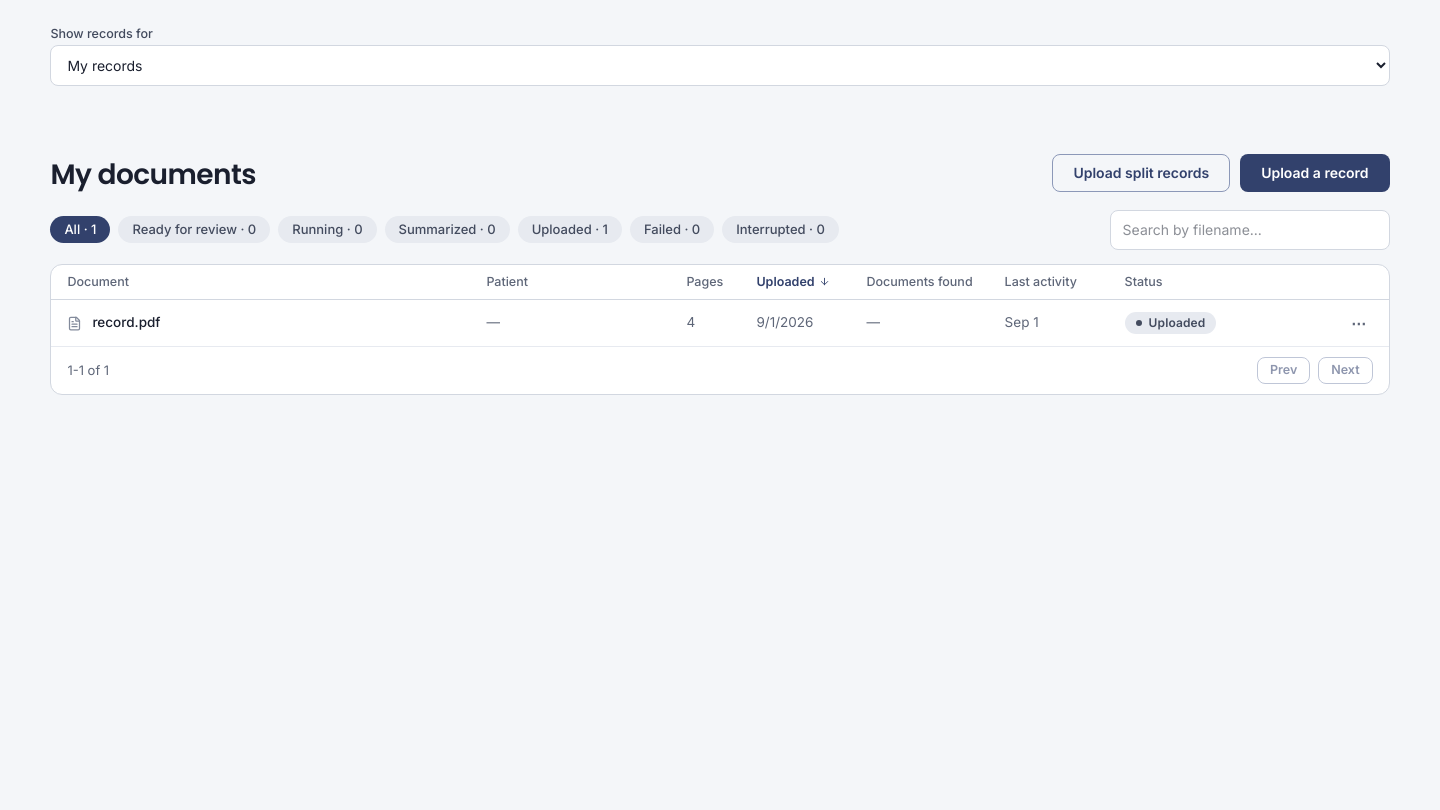
Test: DocumentsView for an admin › names the reviewer on the split upload too
Select "Brian" in the dropdown labelled "Show records for" at (720, 65), box [50,44,1390,86]
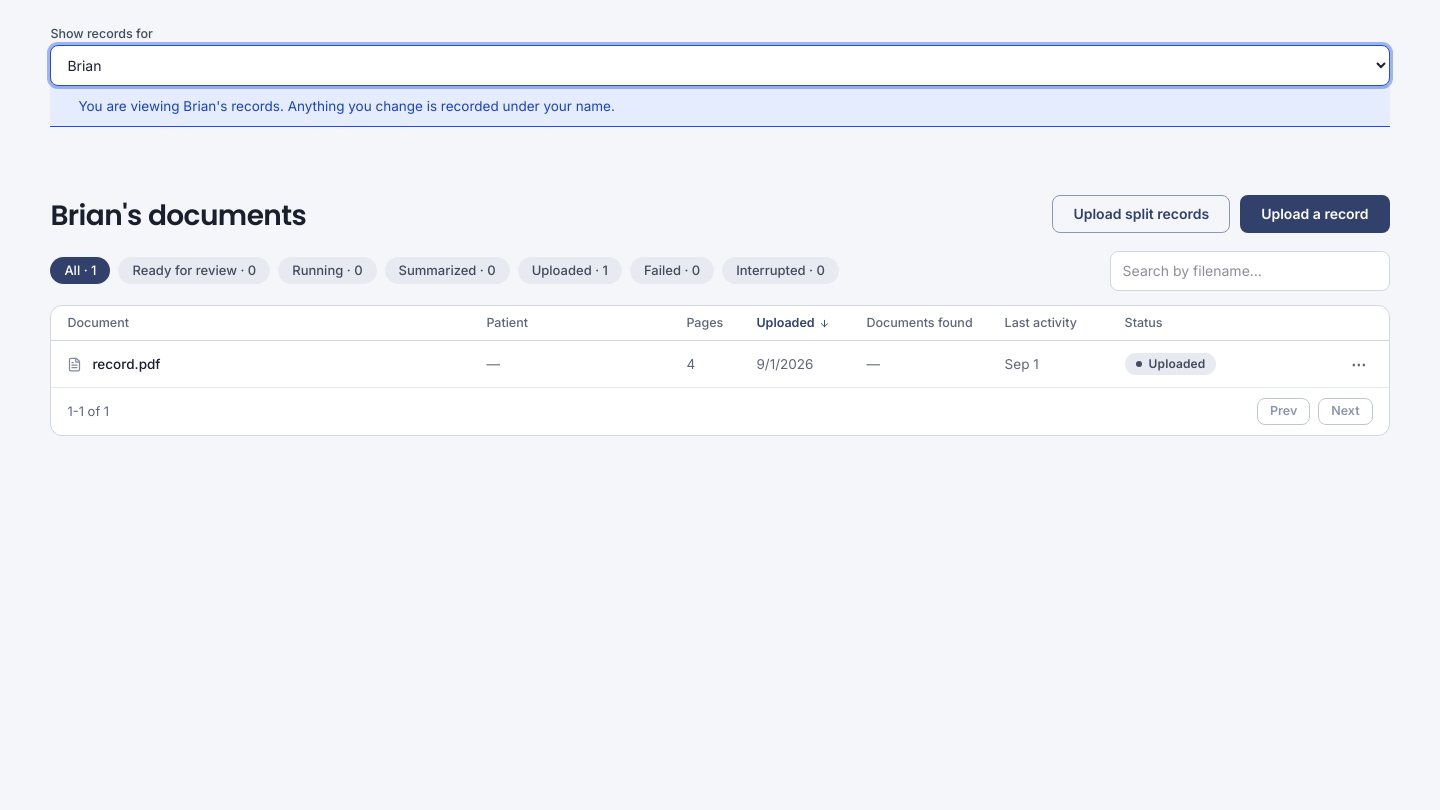
Click the button "Upload split records".
click(1141, 214)  # box [1052,195,1230,233]
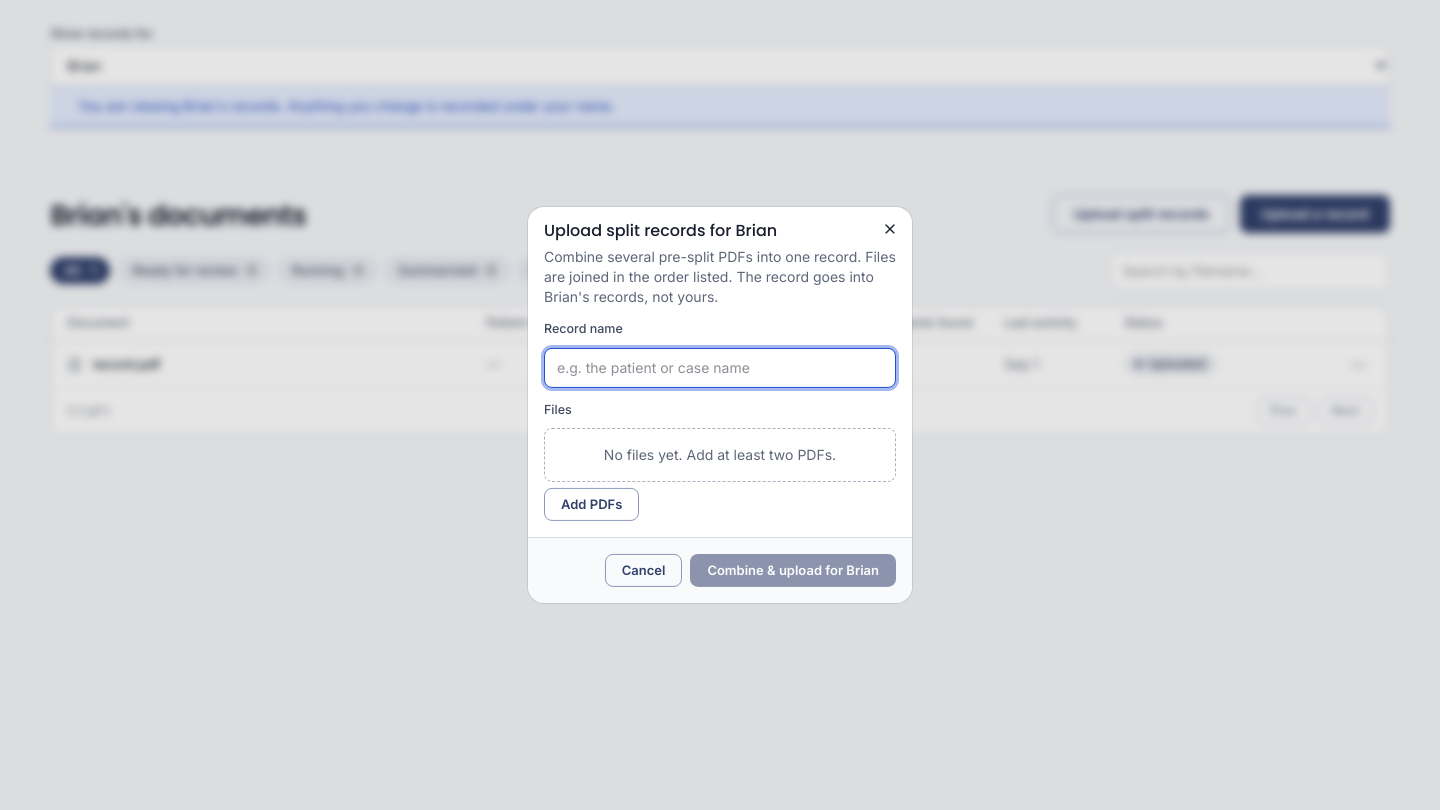
Check: the heading "Upload split records for Brian" is shown, box [544,219,777,242]
